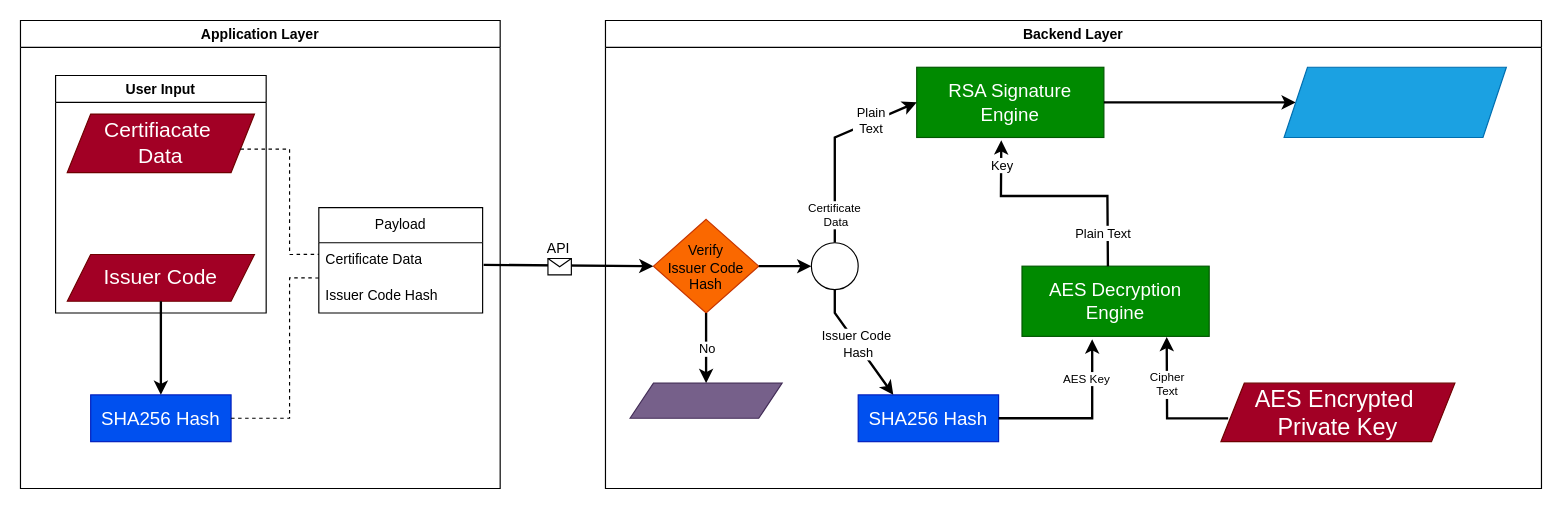
Some shapes in this 1562 by 509 pixel diagram are drawn without their labels. The centre of each missing label's shape, as x and y in pixels:
Authentication Failed: the point at 705,400
Encrypted Certificate Data: the point at 1394,101
